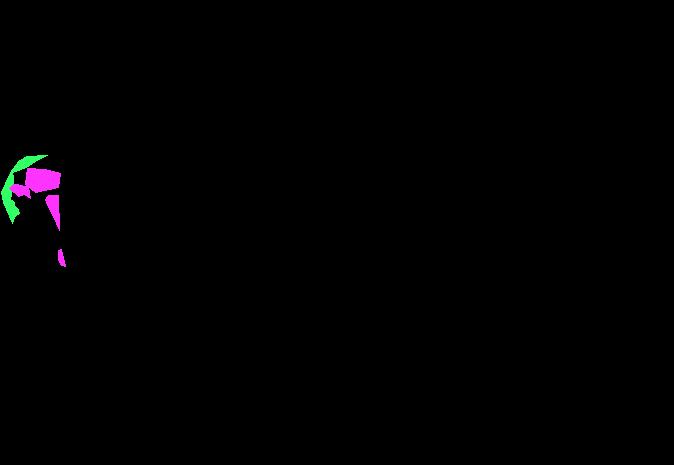Broken part: (1, 155, 47, 223)
Dent: (25, 168, 60, 192), (45, 195, 59, 230), (9, 184, 30, 198), (58, 249, 65, 266)
